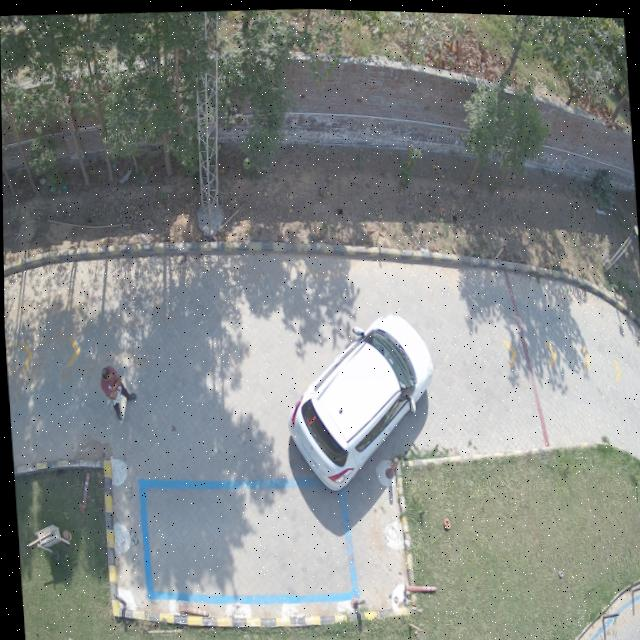car: (287, 312, 432, 489)
